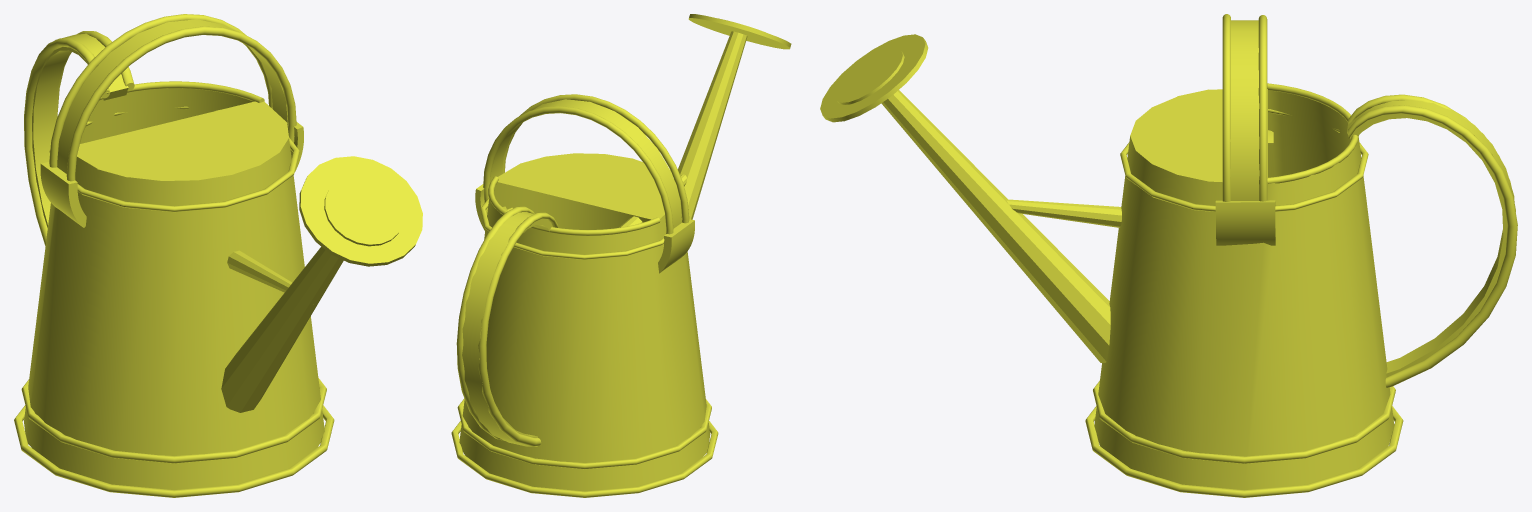
File: watering_can.fbx
The picture shows the model from 3 angles, left to right: view 1: azimuth 30°, elevation 25°; view 2: azimuth 150°, elevation 25°; view 3: azimuth 270°, elevation 25°; orthographic projection. The views are drawn at different scales.
Visible parts, largest first — view 1: pCube5; view 2: pCube5; view 3: pCube5.
Boxes of the visible parts, bbox=[...] form: pCube5: bbox=[14, 14, 422, 497]; pCube5: bbox=[451, 14, 791, 497]; pCube5: bbox=[820, 14, 1517, 497].
Bounding box in the file's own units: 3.02 × 4.26 × 6.66.
